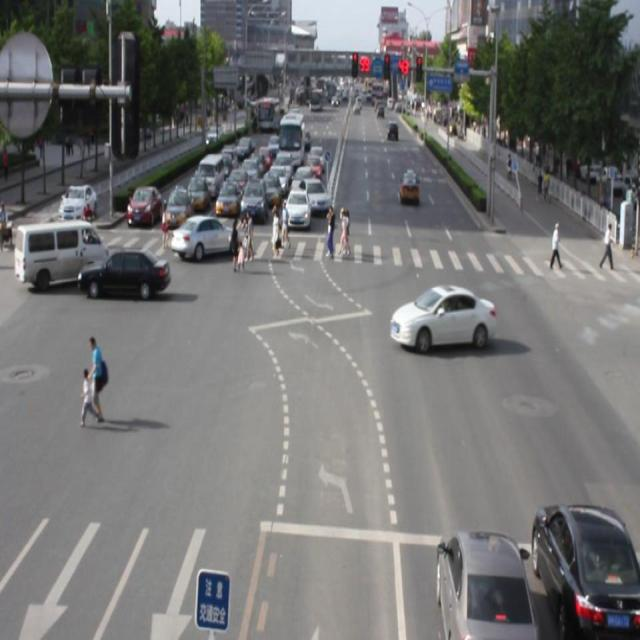car: (523, 495, 640, 640), (429, 524, 530, 640), (389, 282, 496, 352), (78, 245, 170, 299), (171, 217, 242, 259)
